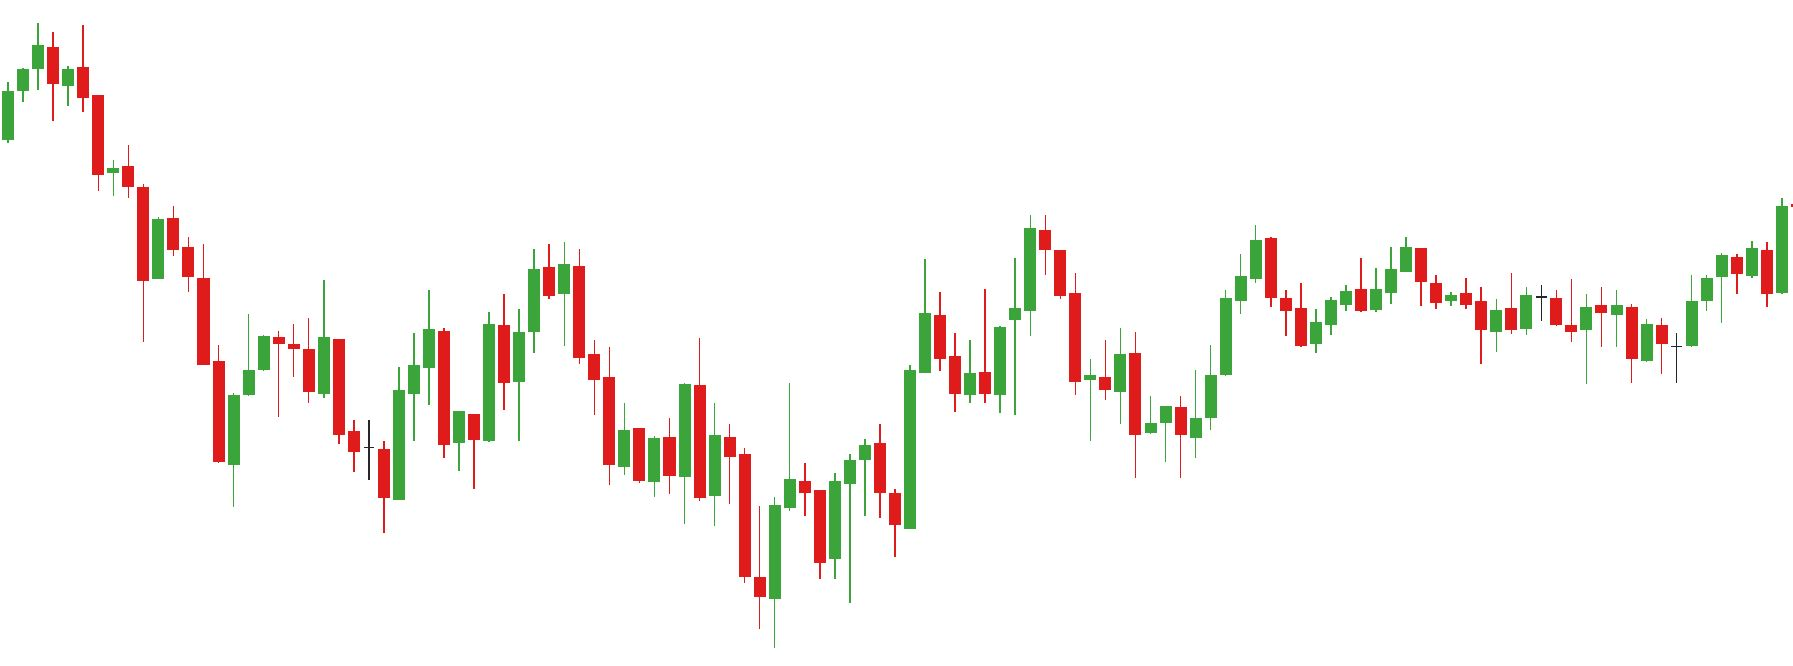buy: (228, 356, 408, 536), (963, 306, 1097, 447)
sell: (421, 243, 585, 415)
